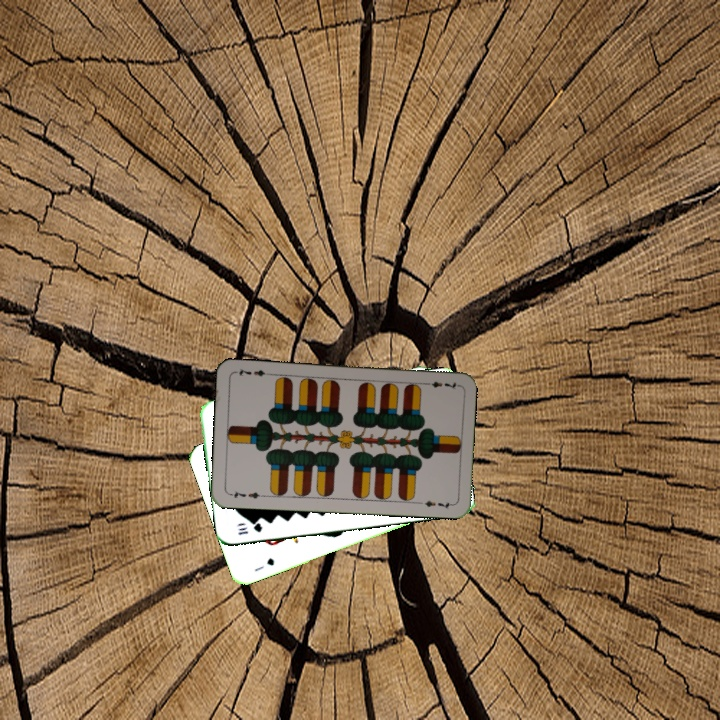E7: (420, 377, 460, 392), (226, 487, 266, 501)
G10: (234, 519, 265, 537)
GU: (250, 554, 277, 574)
